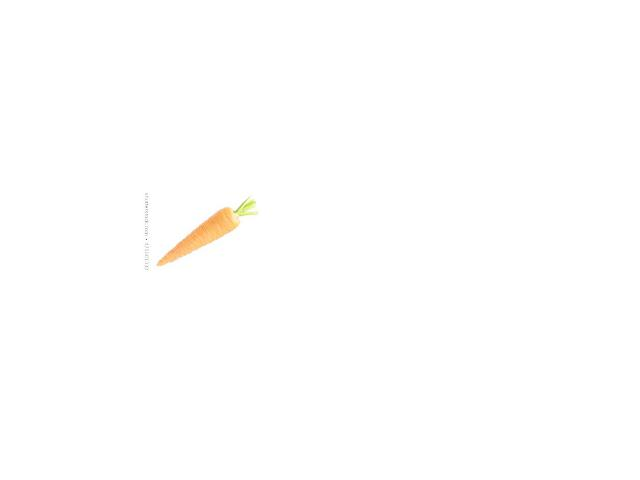carrot: (154, 197, 245, 271)
